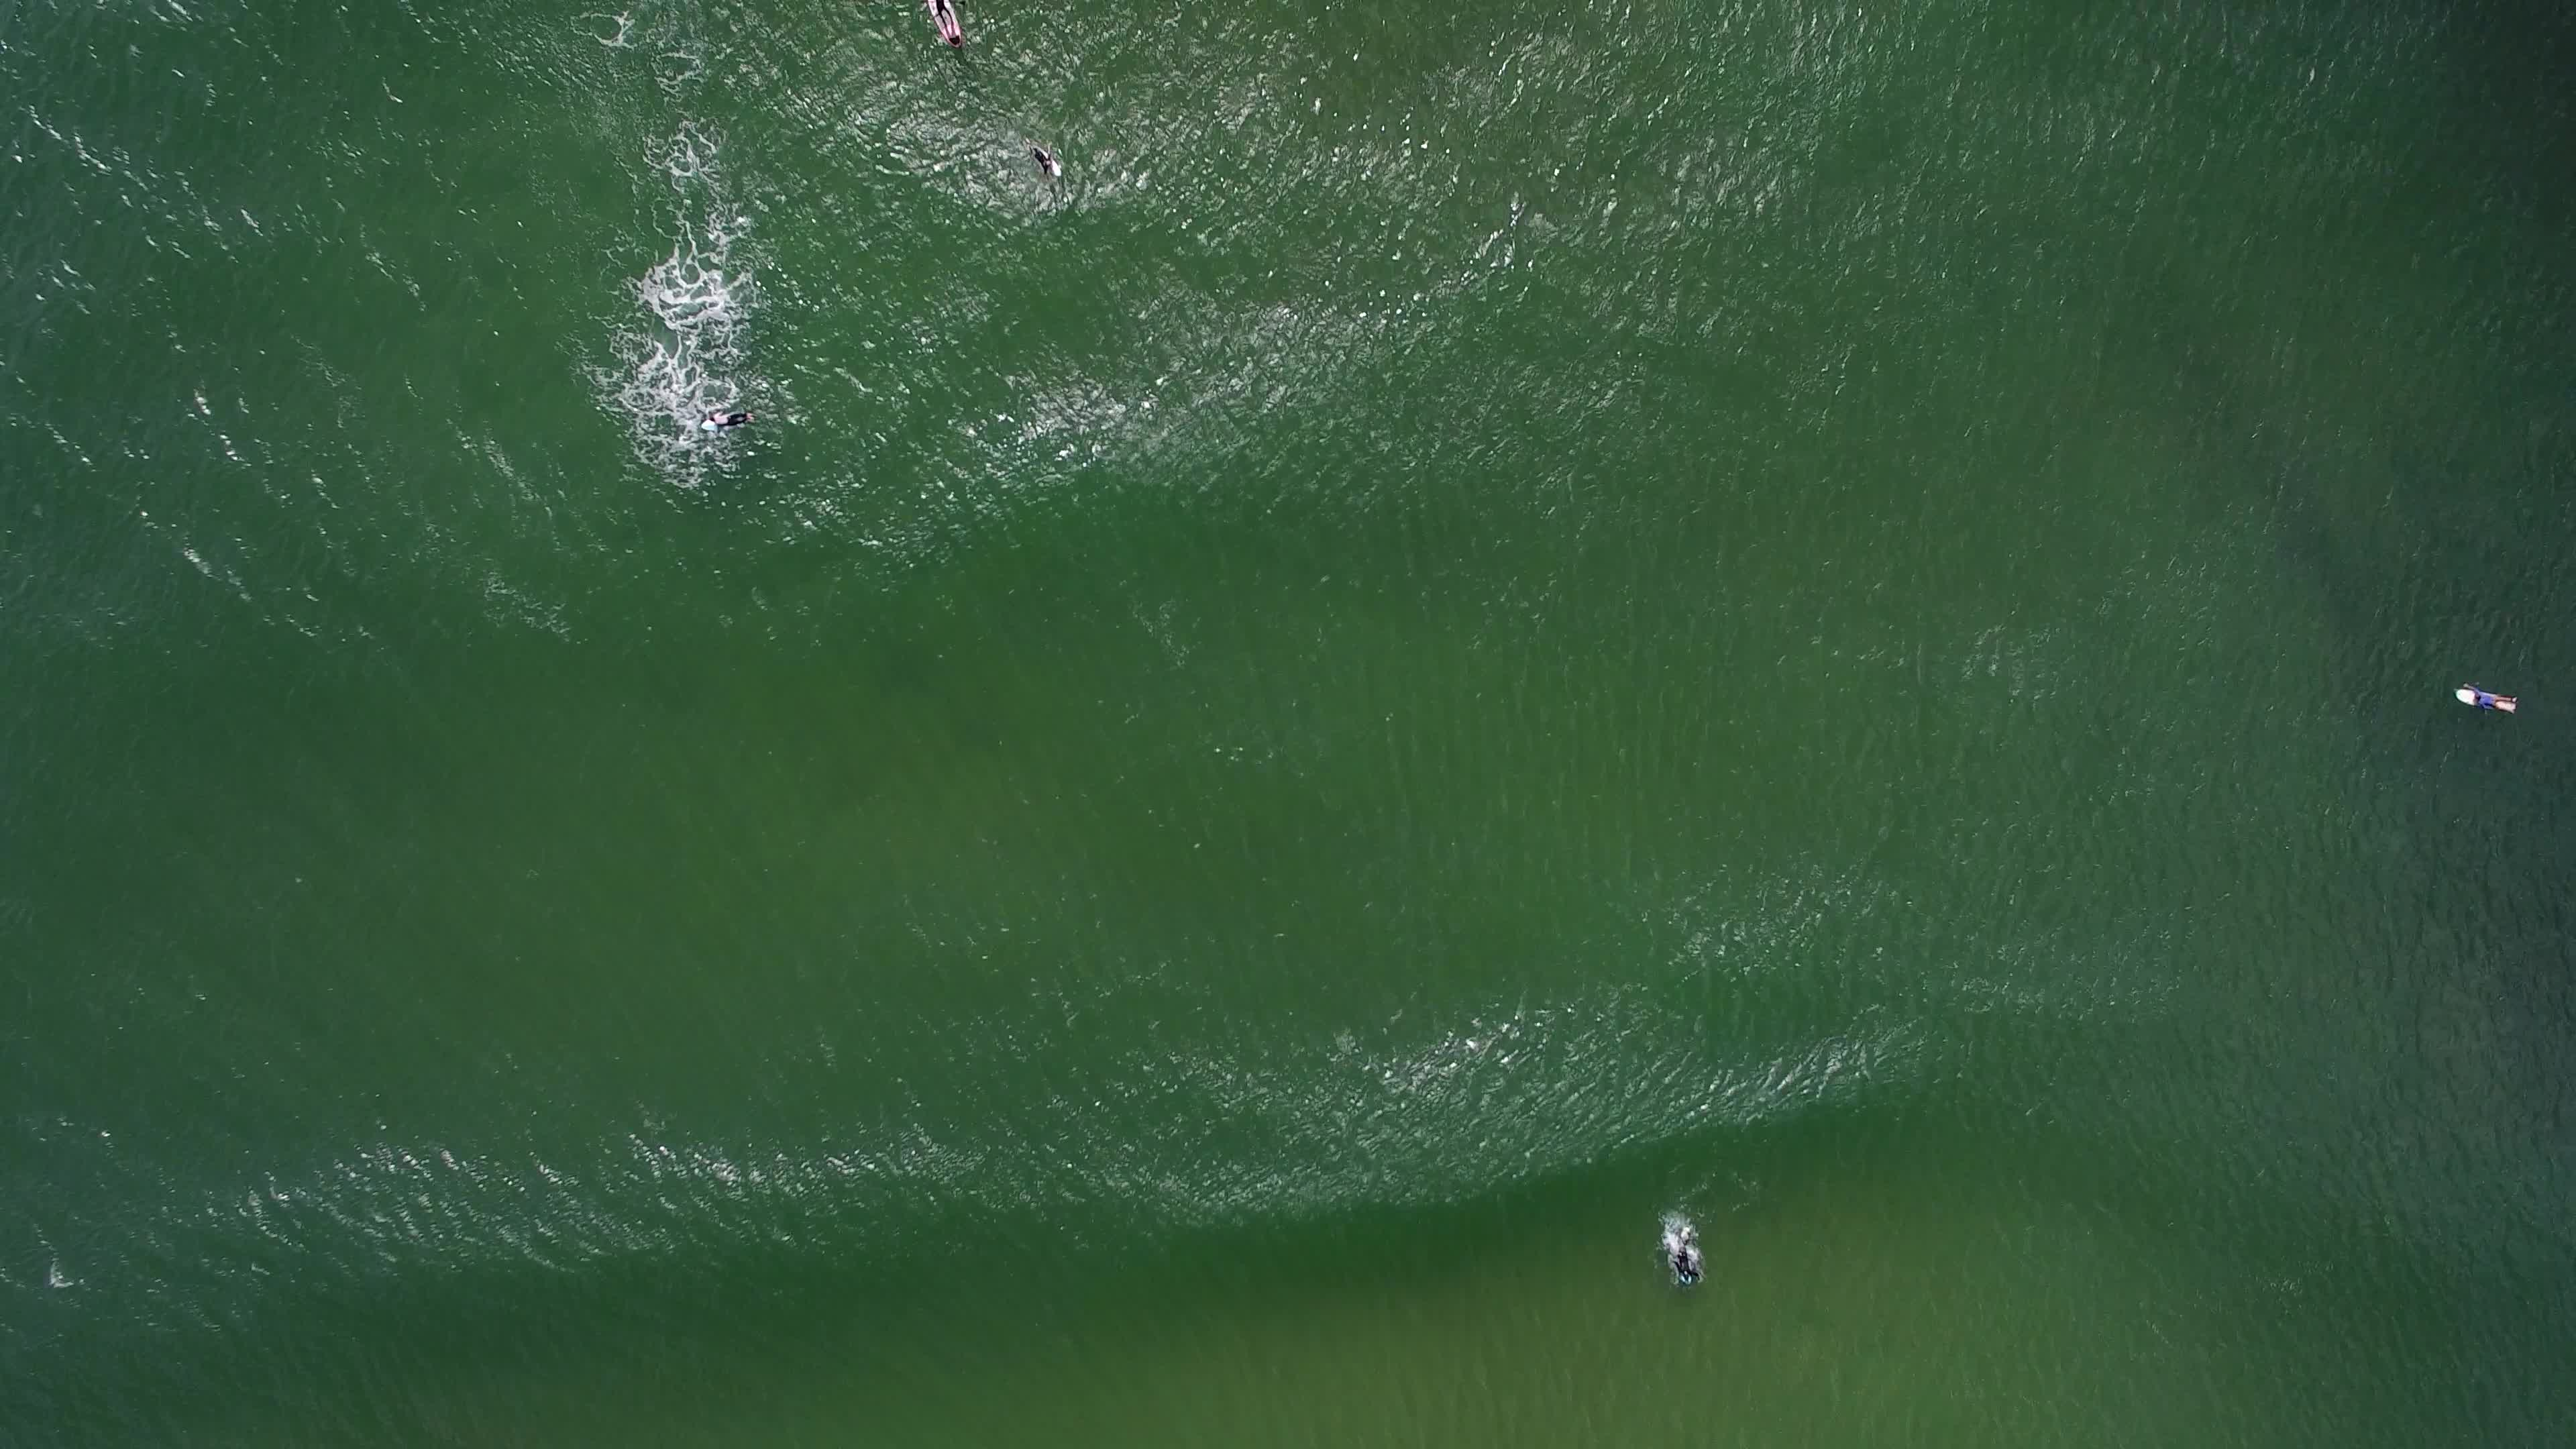surfer: (2450, 672, 2528, 727), (1658, 1228, 1714, 1290), (1026, 136, 1081, 196), (922, 0, 977, 53), (699, 405, 757, 441)
